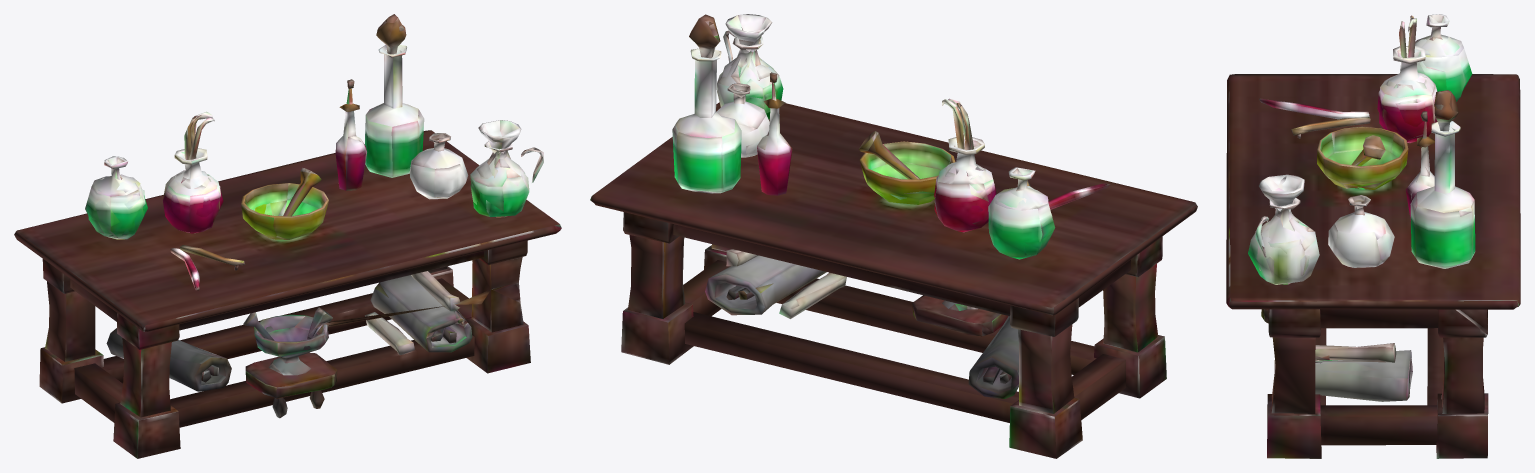
The model's file is alchemy-table.lod1.glb.
3 renders of one model, left to right at view 1: azimuth 30°, elevation 25°; view 2: azimuth 150°, elevation 25°; view 3: azimuth 270°, elevation 25°, orthographic. The views are drawn at different scales.
Size of the model in its own units: 1.6 by 1.11 by 0.8758.
1 material, 1 textured.
